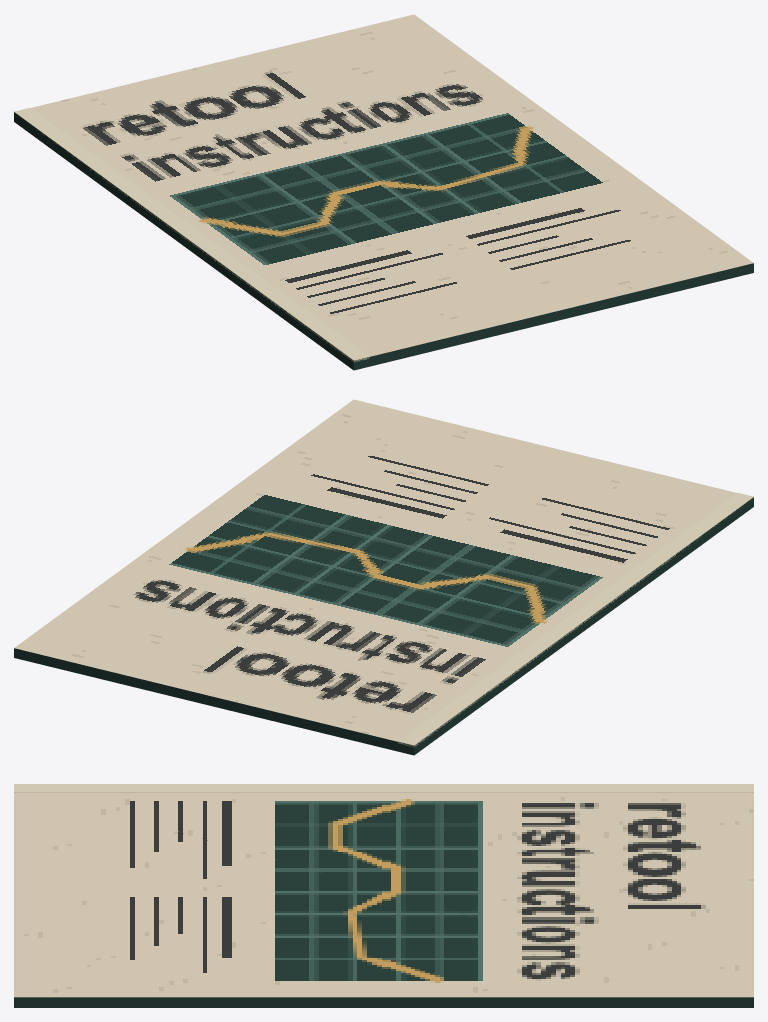
Rendered from retool_instructions.glb.
3 renders of one model, top to bottom at view 1: azimuth 30°, elevation 25°; view 2: azimuth 150°, elevation 25°; view 3: azimuth 270°, elevation 25°, orthographic. The views are drawn at different scales.
Visible parts, largest first — view 1: block_printed paper, block_folded edge; view 2: block_printed paper, block_folded edge; view 3: block_printed paper, block_folded edge.
Part boxes in pixels (<box>): block_printed paper: <box>14,14,753,370</box>; block_folded edge: <box>14,108,369,362</box>; block_printed paper: <box>14,399,753,755</box>; block_folded edge: <box>398,493,753,747</box>; block_printed paper: <box>14,793,753,1007</box>; block_folded edge: <box>14,784,753,792</box>.
Bounding box in the file's own units: 0.1428 × 0.00347 × 0.21.
Materials: 1 (1 with a texture image).
